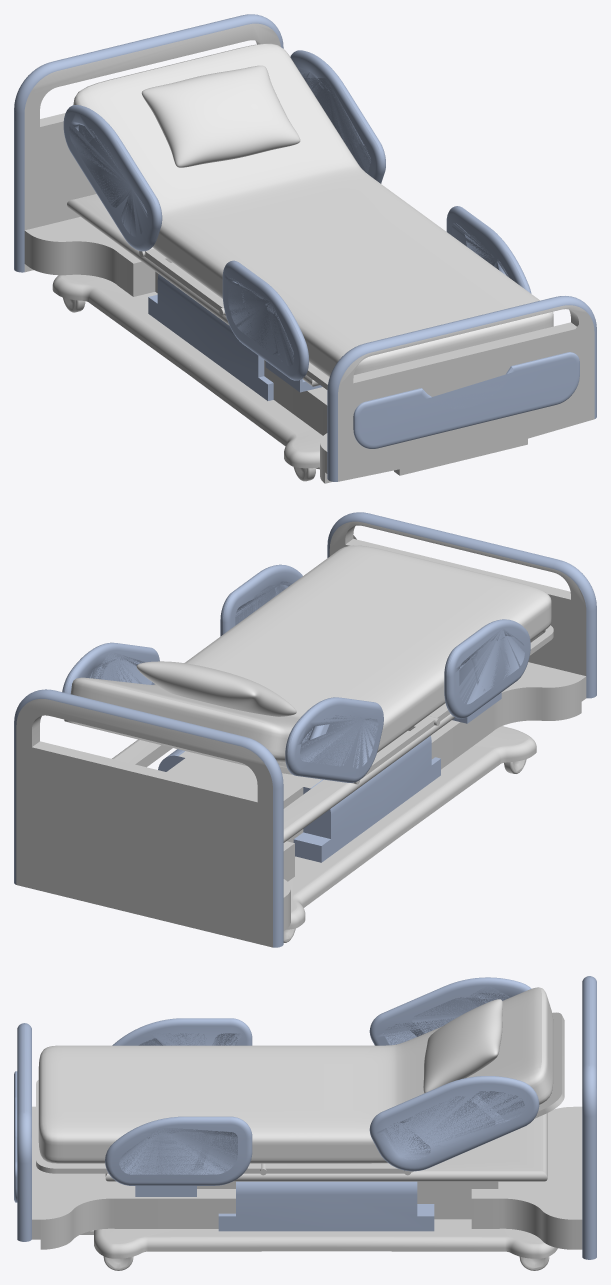
The model's file is hospitalbed.fbx.
3 renders of one model, top to bottom at view 1: azimuth 30°, elevation 25°; view 2: azimuth 150°, elevation 25°; view 3: azimuth 270°, elevation 25°, orthographic. The views are drawn at different scales.
Parts seen in each view (by area): view 1: Cube; view 2: Cube; view 3: Cube.
Boxes of the visible parts, x1,y1,x2,y2 form: Cube: (14, 14, 596, 483); Cube: (14, 512, 596, 947); Cube: (14, 976, 596, 1270).
Size of the model in its own units: 198 by 160 by 416.
